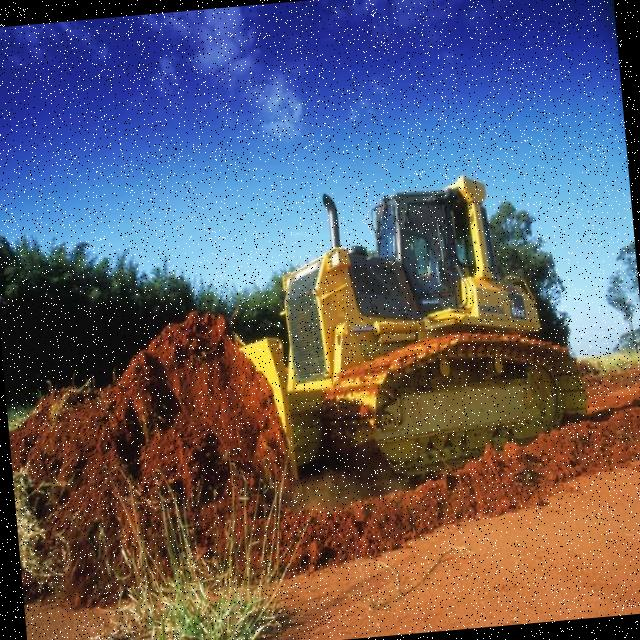Bulldozer: (150, 126, 636, 534)
